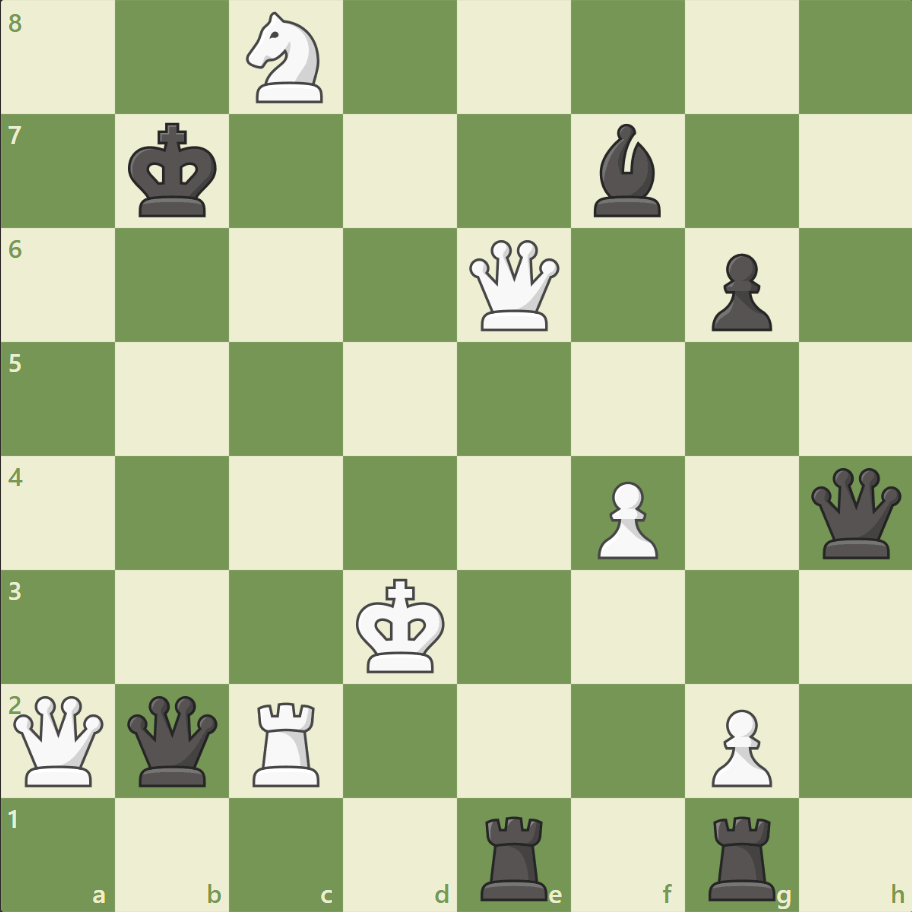K: (351, 571, 451, 679)
N: (238, 7, 335, 110)
P: (701, 700, 776, 791), (588, 473, 662, 564)
Q: (464, 236, 563, 335), (10, 690, 109, 789)
R: (246, 693, 329, 790)
b: (585, 120, 669, 222)
k: (124, 117, 224, 225)
p: (701, 246, 776, 337)
q: (805, 463, 904, 562), (124, 690, 223, 789)
r: (473, 806, 556, 904), (700, 806, 783, 904)
